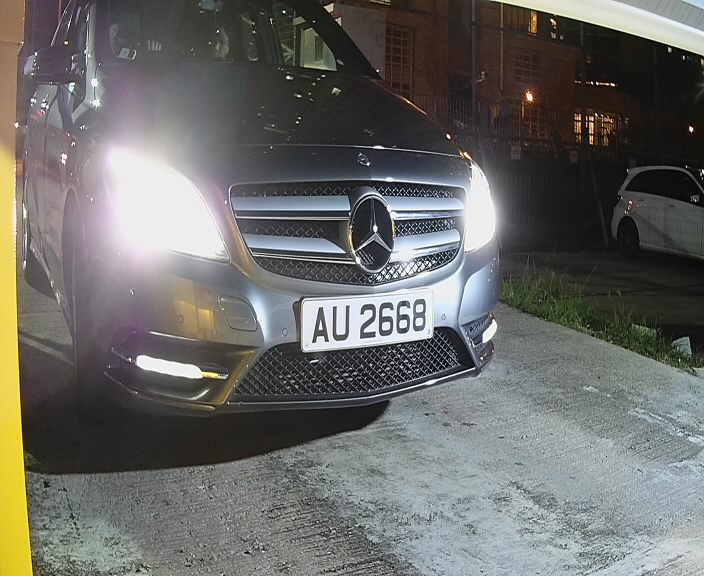Car: (7, 2, 514, 464)
License Plate: (288, 283, 439, 357)
